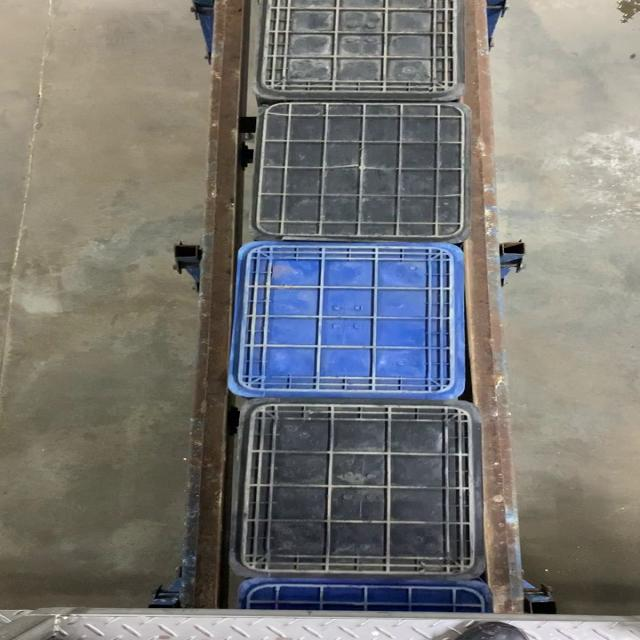Box: (227, 403, 485, 581), (226, 243, 466, 401), (251, 100, 472, 242)
